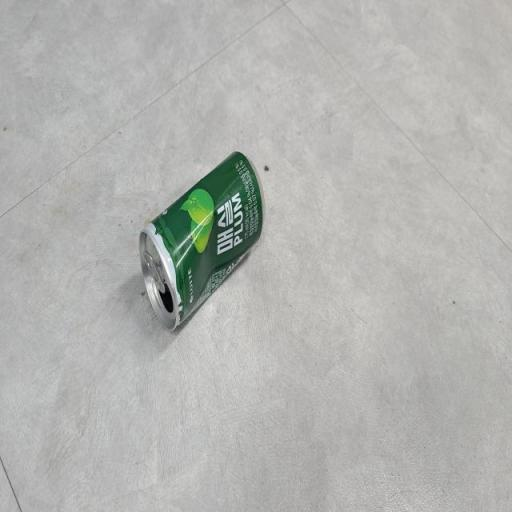metal: (123, 142, 281, 337)
